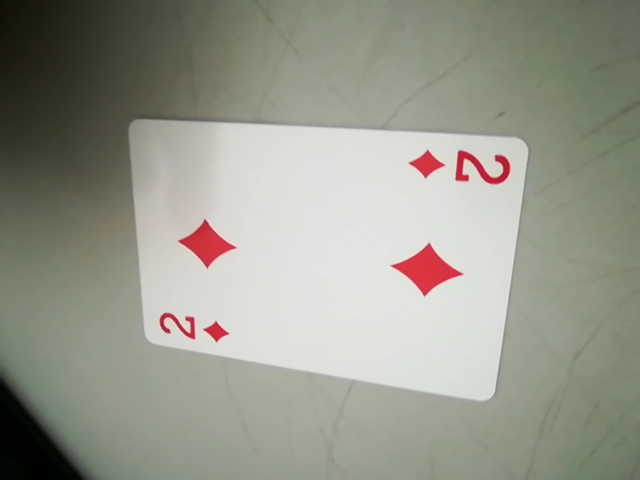fk 2: (405, 141, 515, 194), (153, 302, 237, 351)
